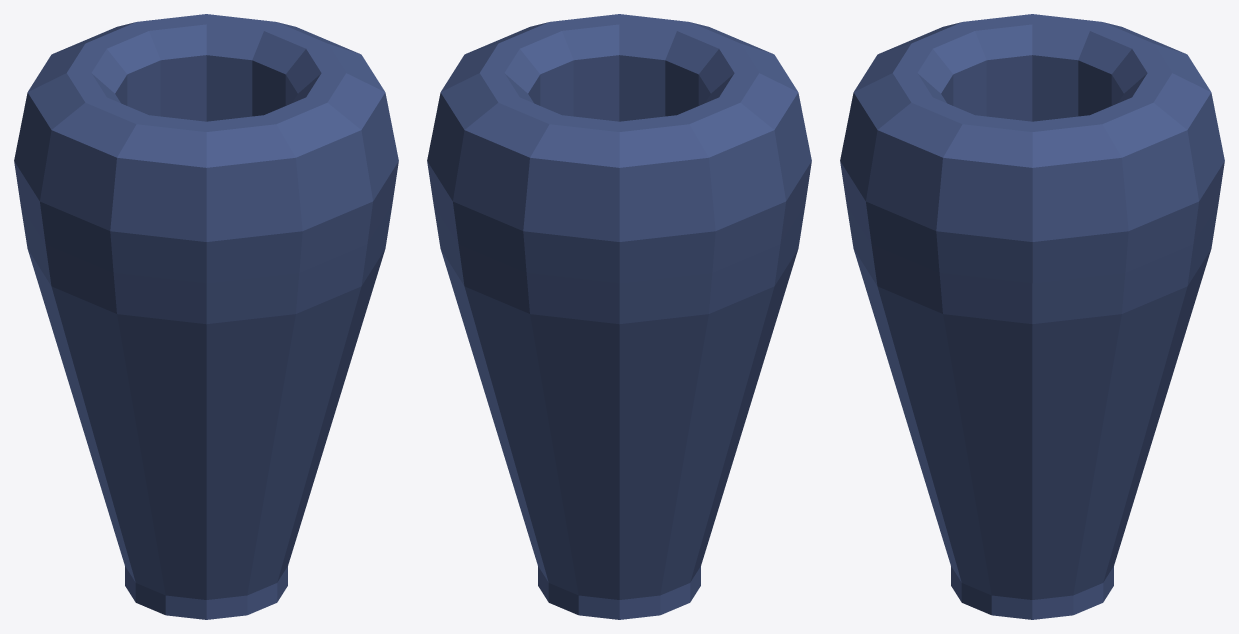
The model's file is Vase.glb.
The picture shows the model from 3 angles, left to right: view 1: azimuth 30°, elevation 25°; view 2: azimuth 150°, elevation 25°; view 3: azimuth 270°, elevation 25°; orthographic projection.
Parts seen in each view (by area): view 1: Vase; view 2: Vase; view 3: Vase.
Boxes of the visible parts, x1=… form: Vase: x1=14, y1=14, x2=398, y2=619; Vase: x1=427, y1=14, x2=811, y2=619; Vase: x1=840, y1=14, x2=1224, y2=619.
Bounding box in the file's own units: 77.52 × 114 × 77.52.
